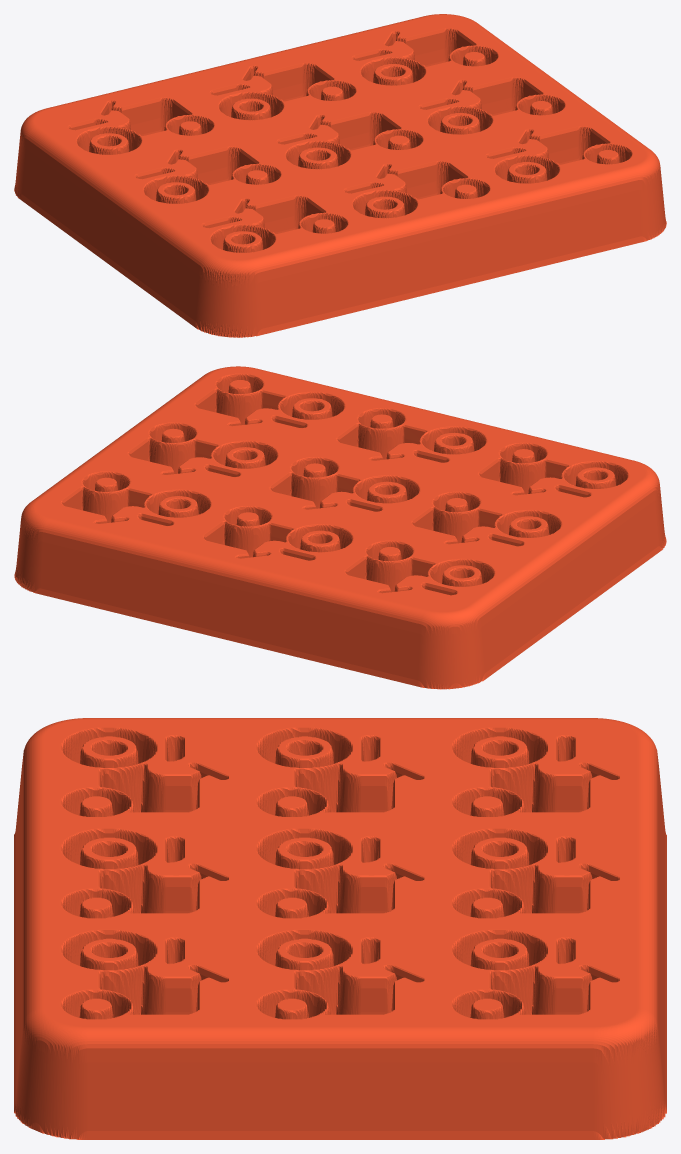
Rendered from mold.glb.
3 renders of one model, top to bottom at view 1: azimuth 30°, elevation 25°; view 2: azimuth 150°, elevation 25°; view 3: azimuth 270°, elevation 25°, orthographic. The views are drawn at different scales.
Parts seen in each view (by area): view 1: geometry_0; view 2: geometry_0; view 3: geometry_0.
Boxes of the visible parts, box(x1,y1,x2,y2) form: geometry_0: box(14, 14, 666, 337); geometry_0: box(14, 366, 666, 689); geometry_0: box(14, 718, 666, 1139).
Size of the model in its own units: 0.0964 by 0.0136 by 0.0802.
